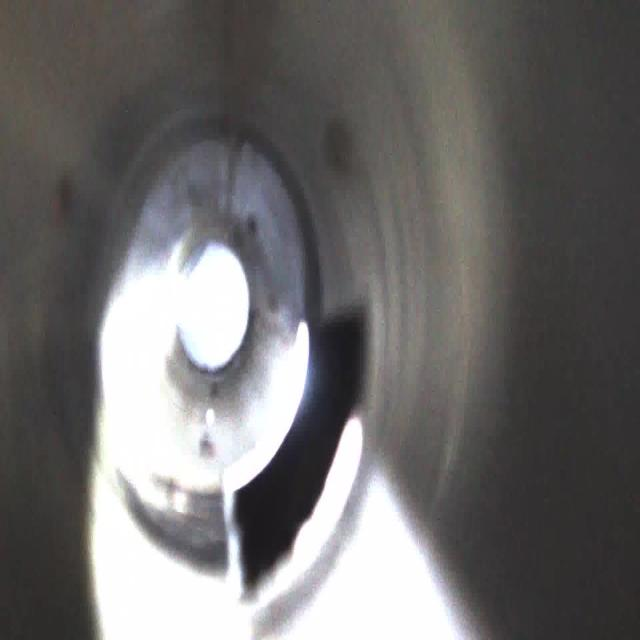hole: (219, 278, 382, 615)
